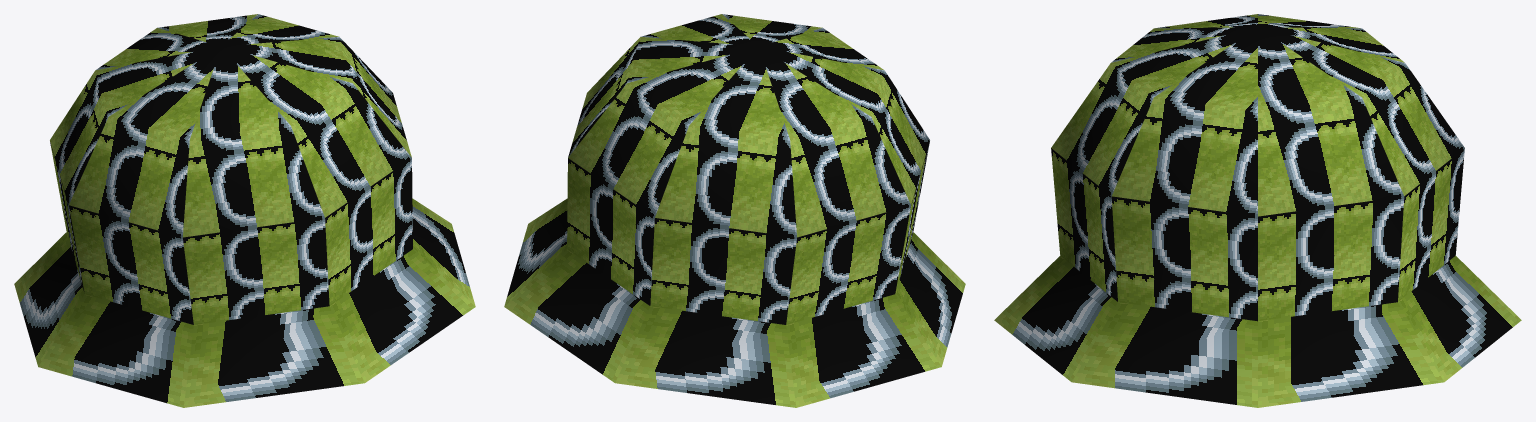
3 renders of one model, left to right at view 1: azimuth 30°, elevation 25°; view 2: azimuth 150°, elevation 25°; view 3: azimuth 270°, elevation 25°, orthographic. The views are drawn at different scales.
Visible parts, largest first — view 1: ef_677; view 2: ef_677; view 3: ef_677.
Boxes of the visible parts, x1,y1,x2,y2 form: ef_677: (14, 14, 475, 407); ef_677: (504, 14, 965, 407); ef_677: (994, 14, 1521, 407).
Bounding box in the file's own units: 0.4189 × 0.2671 × 0.4209.
1 material, 1 textured.
